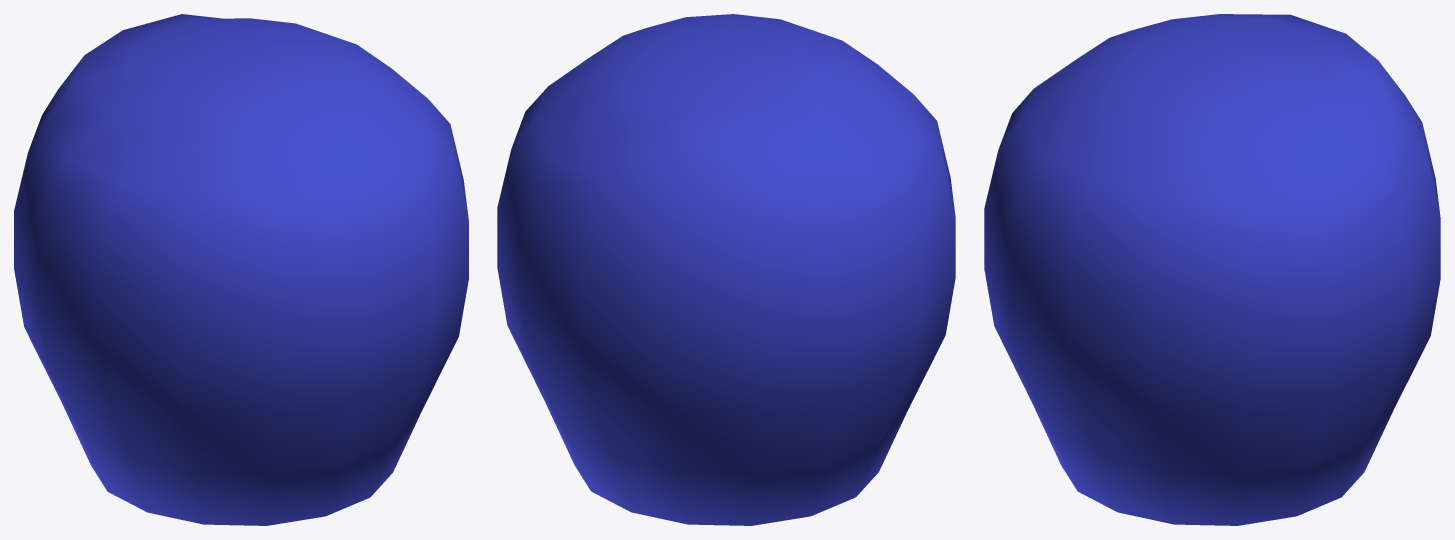
File: BaloonTop.obj
3 views of the same model, side by side, from view 1: azimuth 30°, elevation 25°; view 2: azimuth 150°, elevation 25°; view 3: azimuth 270°, elevation 25° (orthographic).
Visible parts, largest first — view 1: pSphere1; view 2: pSphere1; view 3: pSphere1.
Part boxes in pixels (x1,y1,x2,y2): pSphere1: (14, 14, 468, 525); pSphere1: (497, 14, 955, 525); pSphere1: (984, 14, 1440, 525).
Bounding box in the file's own units: 85.51 × 86.15 × 85.51.
